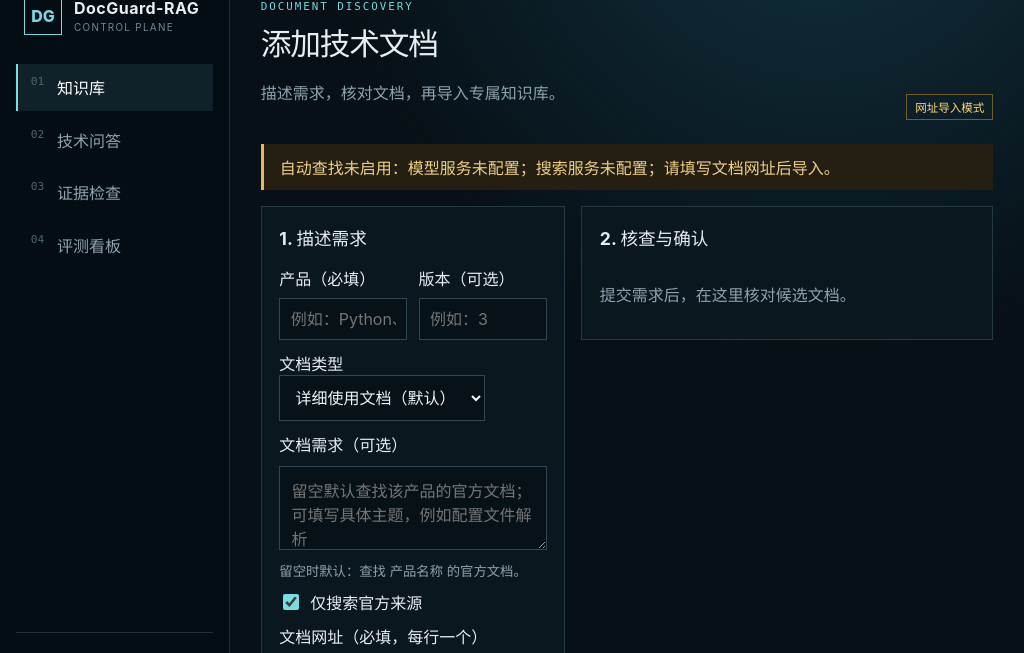
requires a URL before creating a task when automatic search is unconfigured
expect the text "网址导入模式" is shown: met, box [906, 94, 993, 120]
Type "Python 文档" into the text box labelled "文档需求（可选）". click: [413, 508]
box: [279, 466, 547, 550]
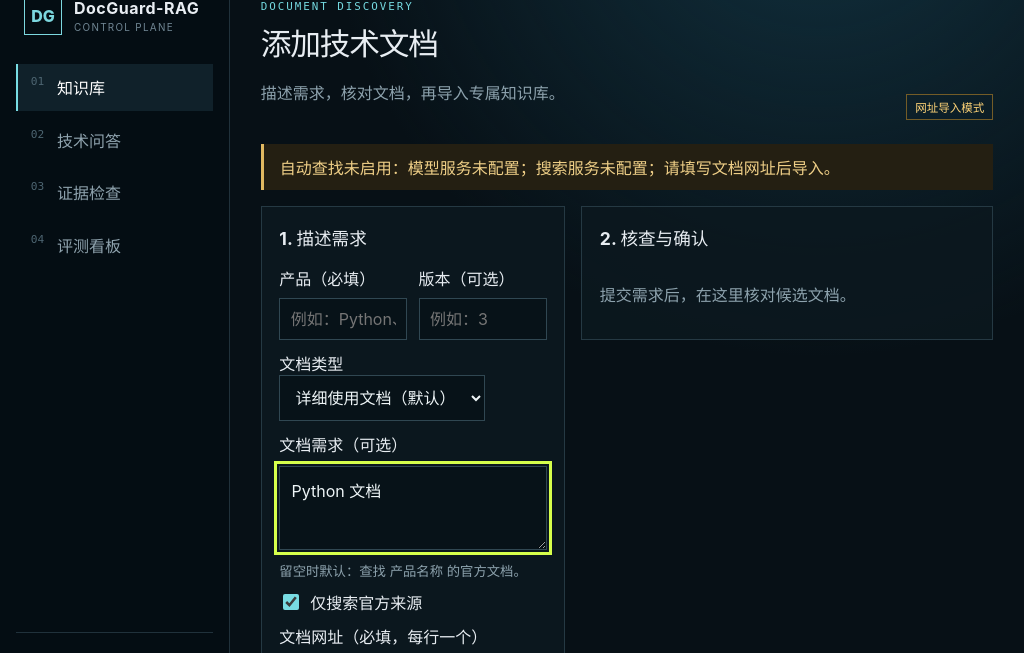
Type "Python" into the field labelled "产品（必填）". click: [343, 319]
box: [279, 298, 407, 340]
(page scrolled)
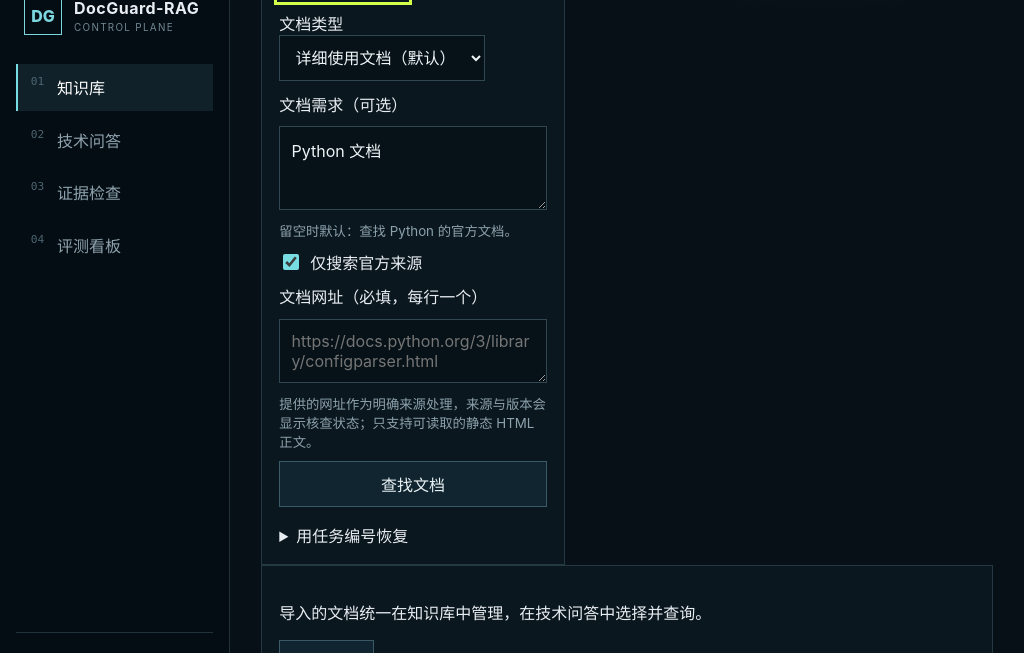
Click the button "查找文档". click: [413, 484]
box: [279, 461, 547, 507]
(page scrolled)
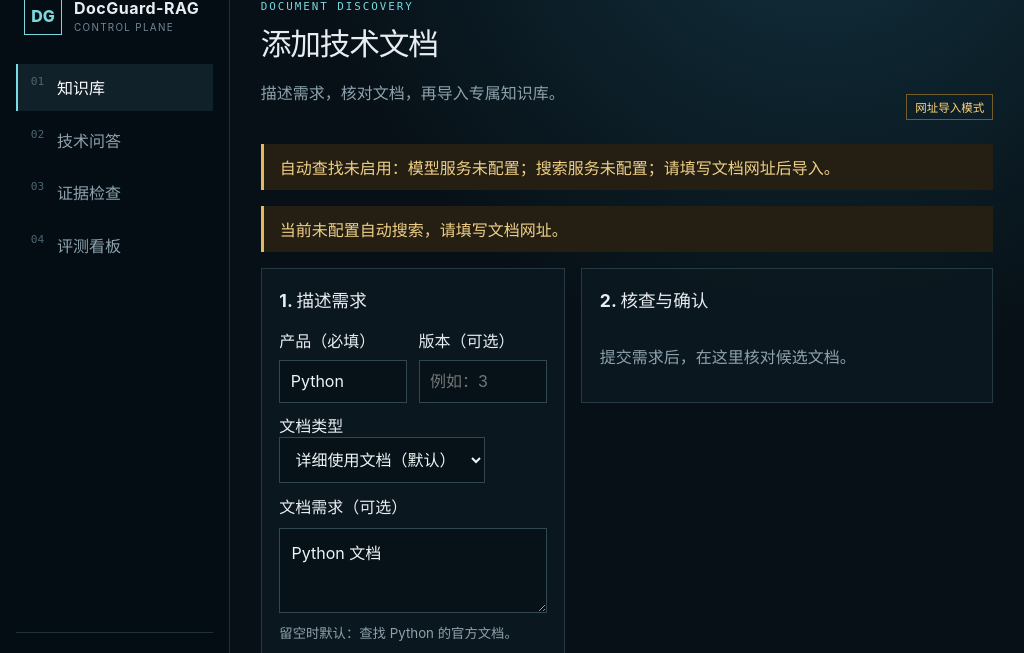
expect the text "当前未配置自动搜索，请填写文档网址。" is shown: met, box [261, 206, 993, 252]
